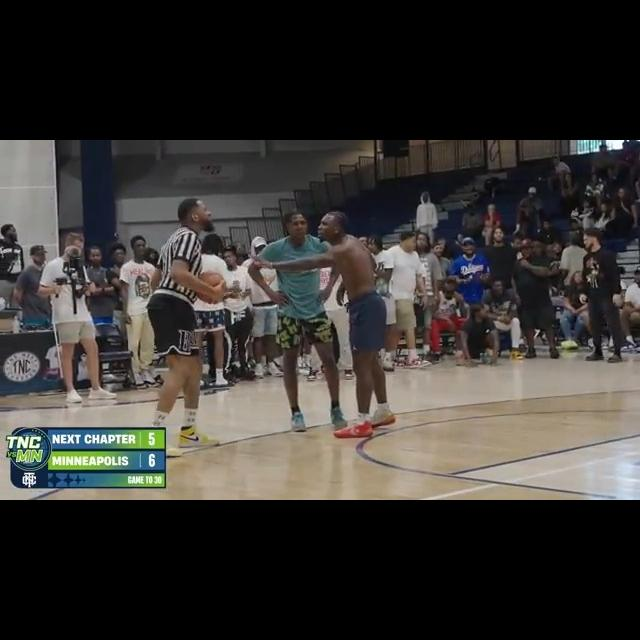basketball: (198, 270, 226, 303)
